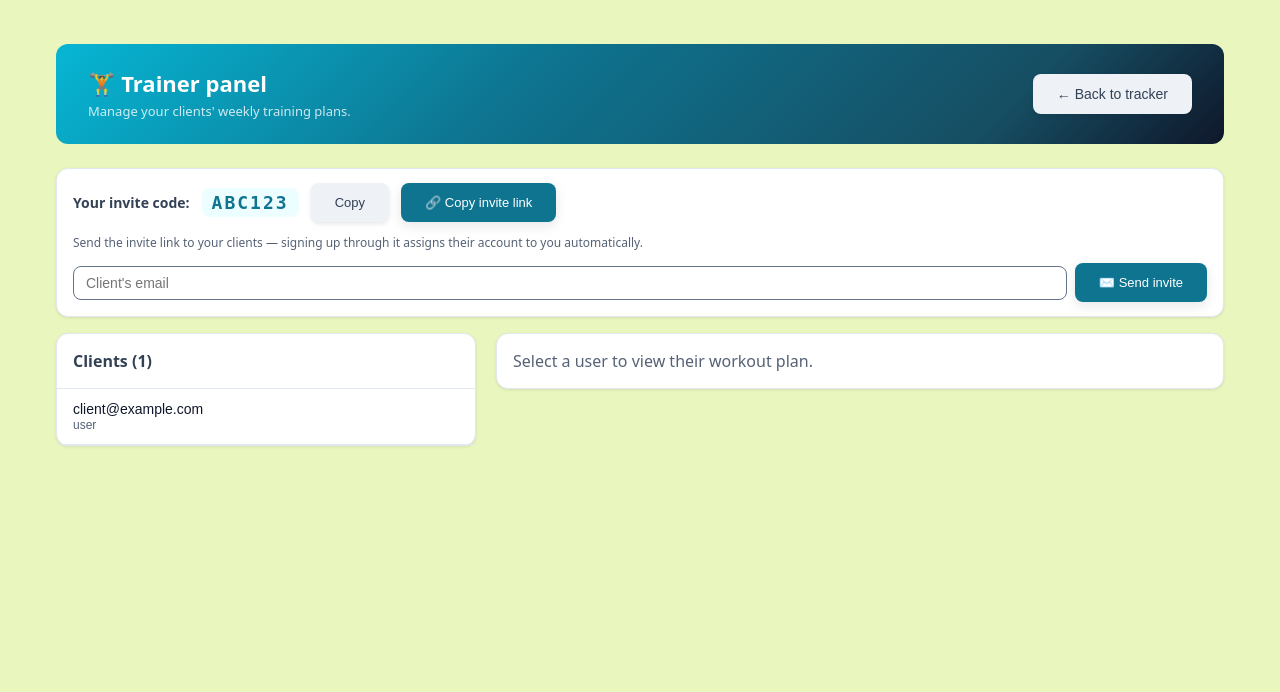
Test case: AdminDashboard save conflict › refuses to clobber a newer save and offers Load latest or Keep mine
Click the text "client@example.com".
click(138, 409)  # box 73,401 -> 203,417
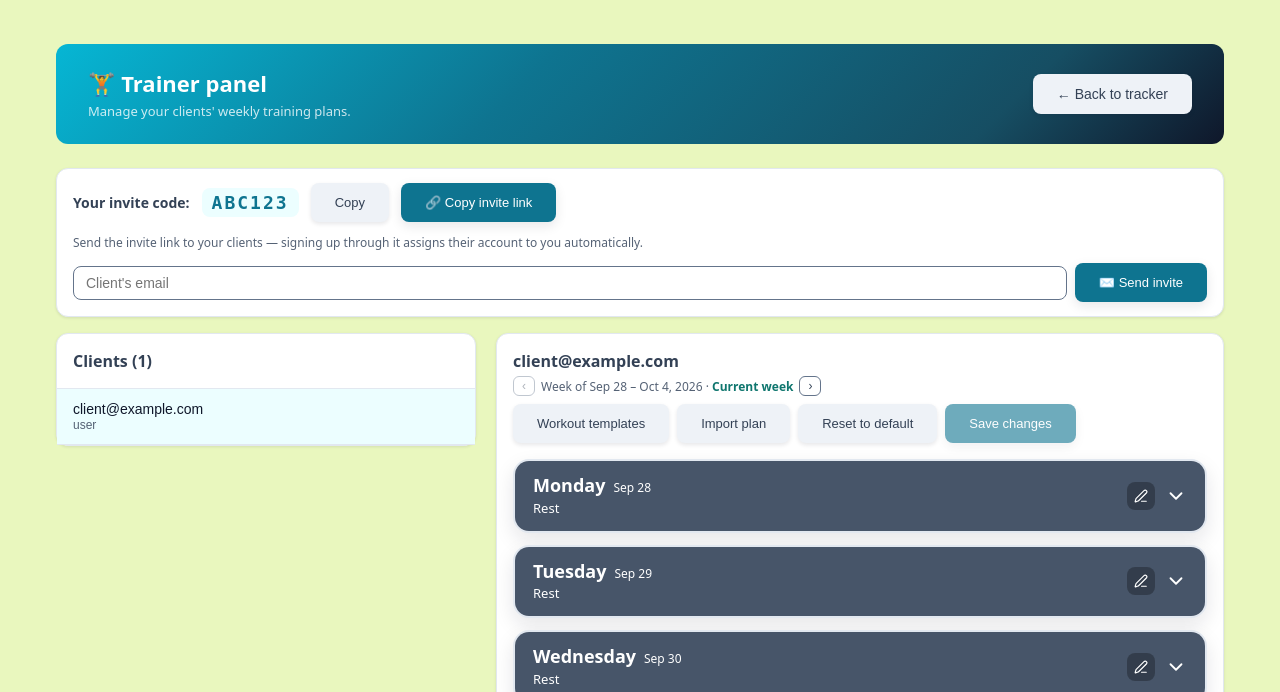
Expected: the button "Import plan" is shown, 677,404 -> 790,443
Click the button "Reset to default".
click(868, 424)  # box 798,404 -> 937,443
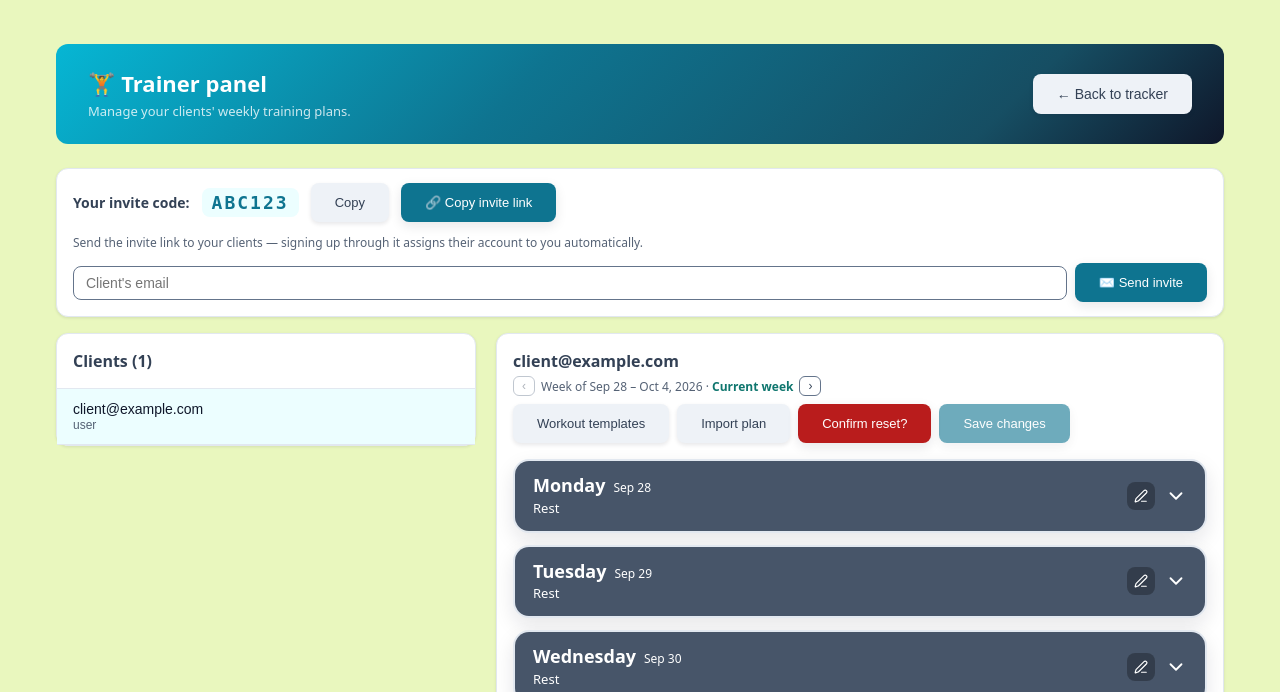
Click the button "Confirm reset?".
click(865, 424)  # box 798,404 -> 932,443
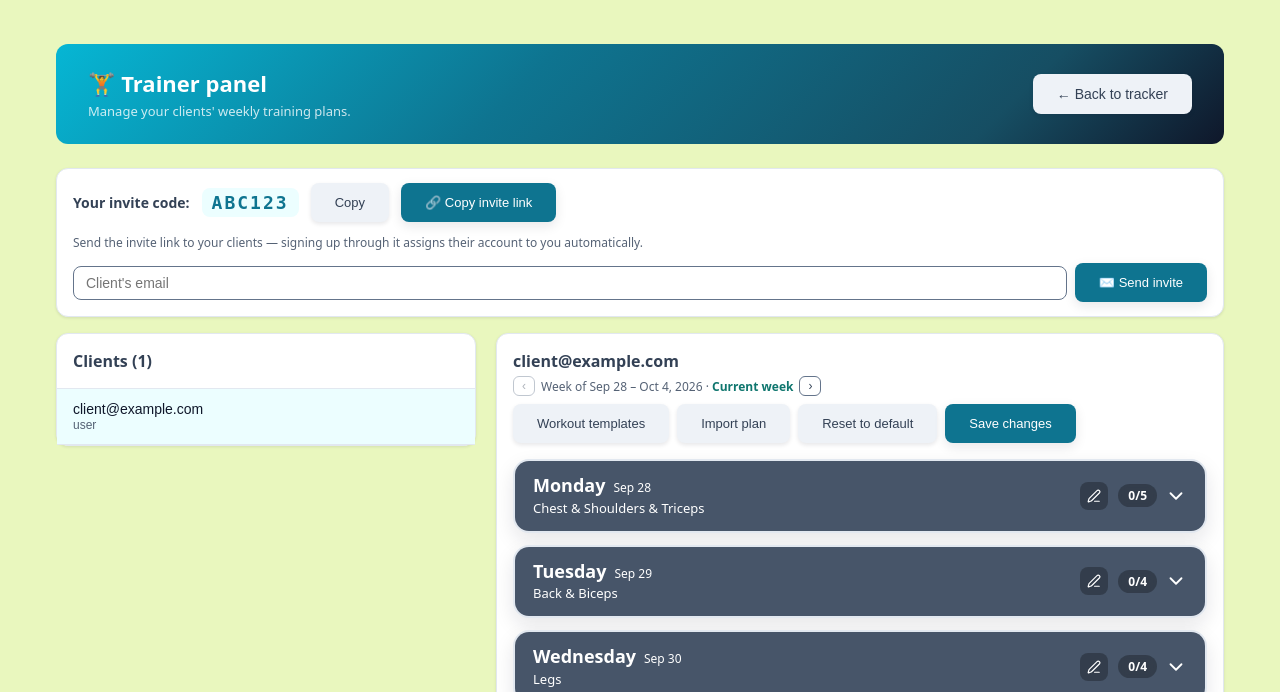
Click the button "Save changes".
click(1010, 424)  # box 945,404 -> 1076,443
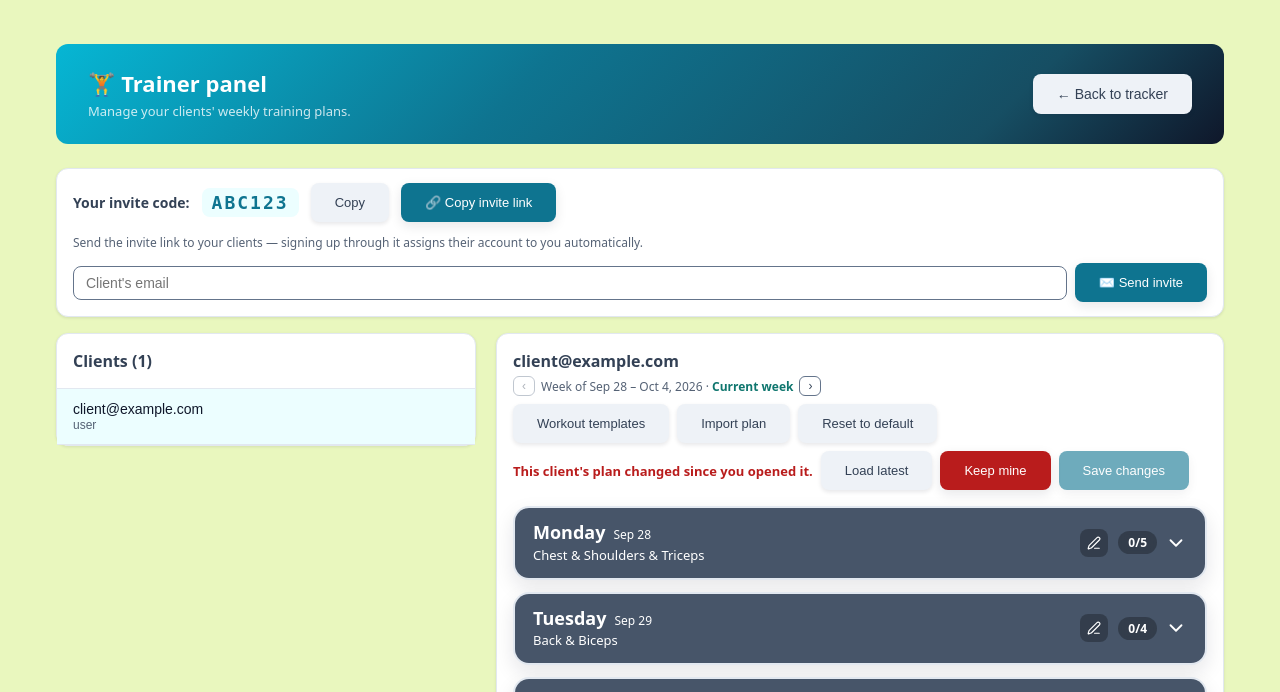
Expected: the message shows "This client's plan changed since you opened it.", 513,462 -> 813,480
Click the button "Keep mine".
click(996, 470)  # box 940,451 -> 1051,490
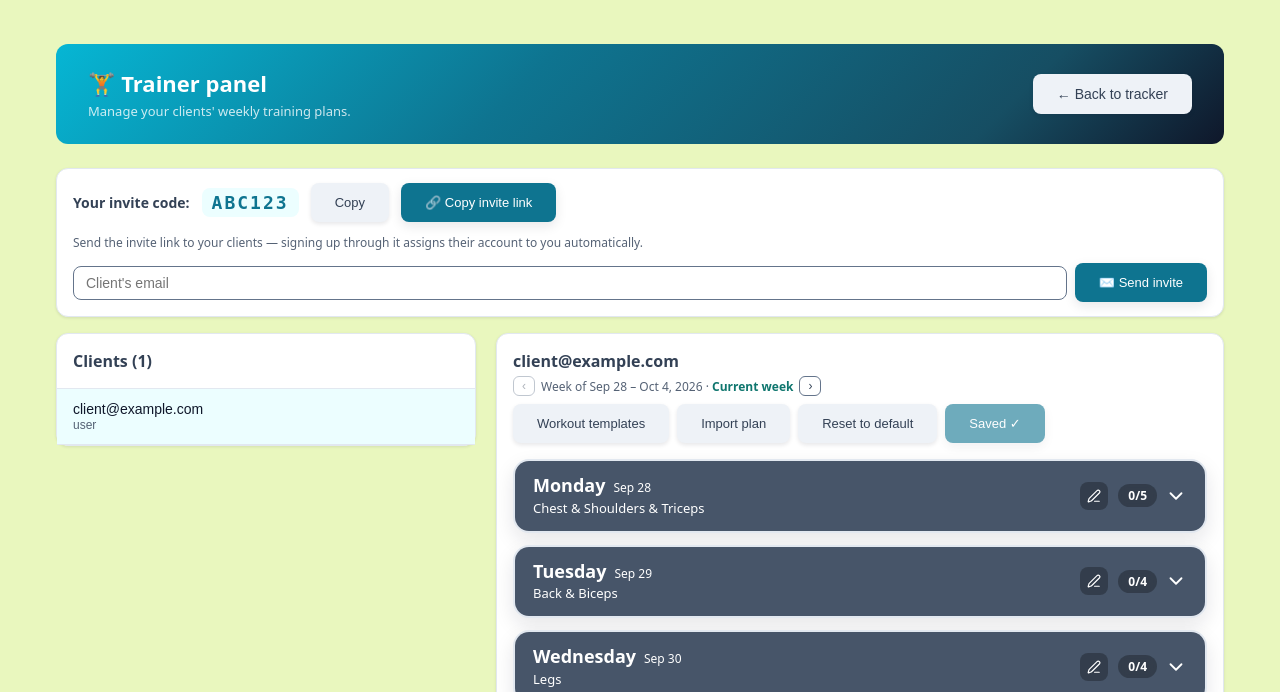
Expected: the button "Saved ✓" is shown, 945,404 -> 1045,443
